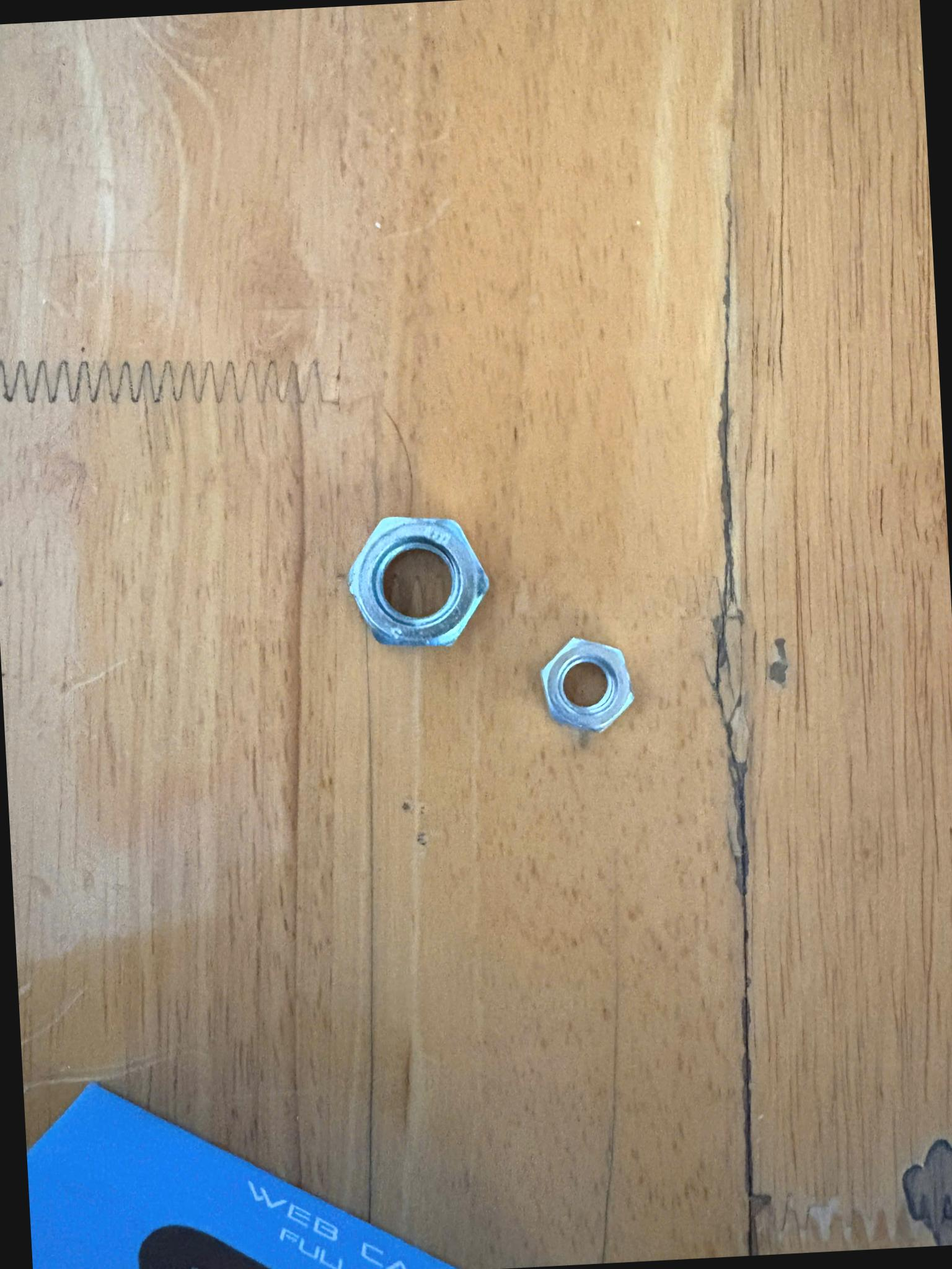nut: (330, 497, 512, 686), (526, 634, 652, 747)
